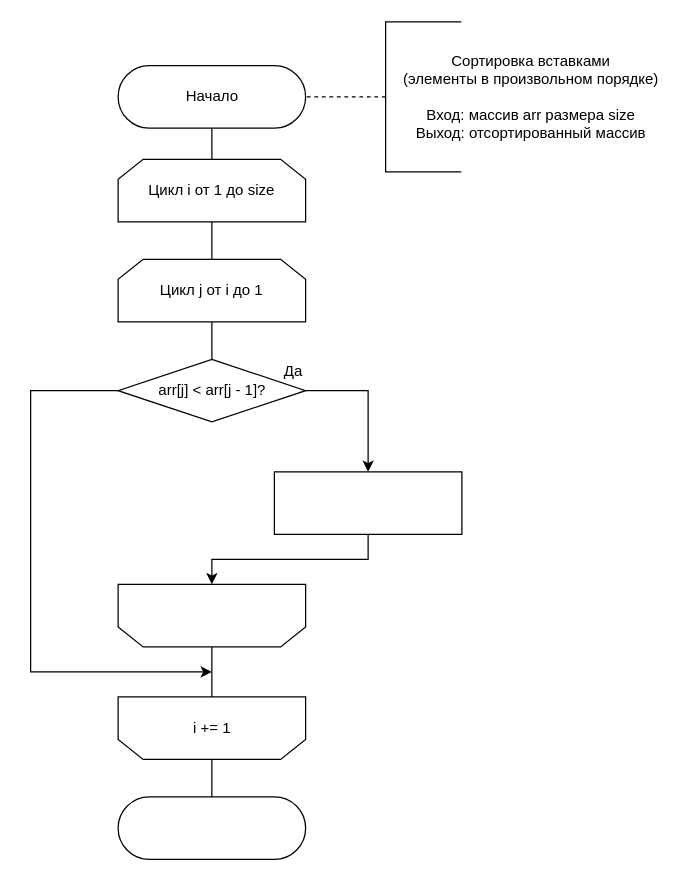
Some shapes in this 690 by 881 pixel diagram are drawn without their labels. Here are the shapes that lost their labels. From the top down, the centre of each, then its label:
At pixel 367 502: "Обмен arr[j] и arr[j - 1]".
At pixel 211 615: "j -= 1".
At pixel 211 827: "Конец".
